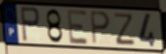4: (138, 12, 159, 49)
8: (46, 8, 64, 44)
E: (66, 8, 90, 46)
P: (19, 6, 42, 44), (89, 10, 112, 46)
Z: (114, 12, 136, 46)
